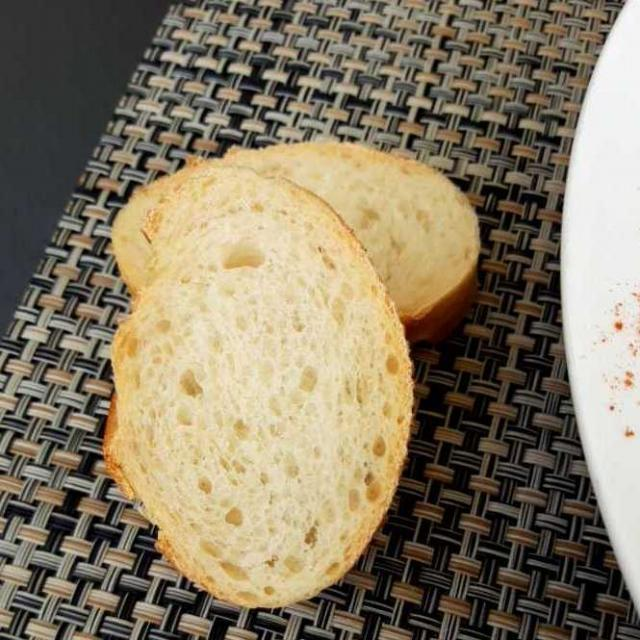bread: (114, 163, 415, 604)
